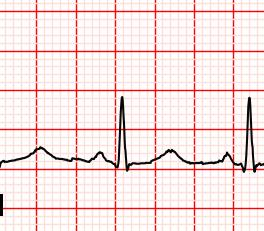LVH: (151, 145, 196, 169)
